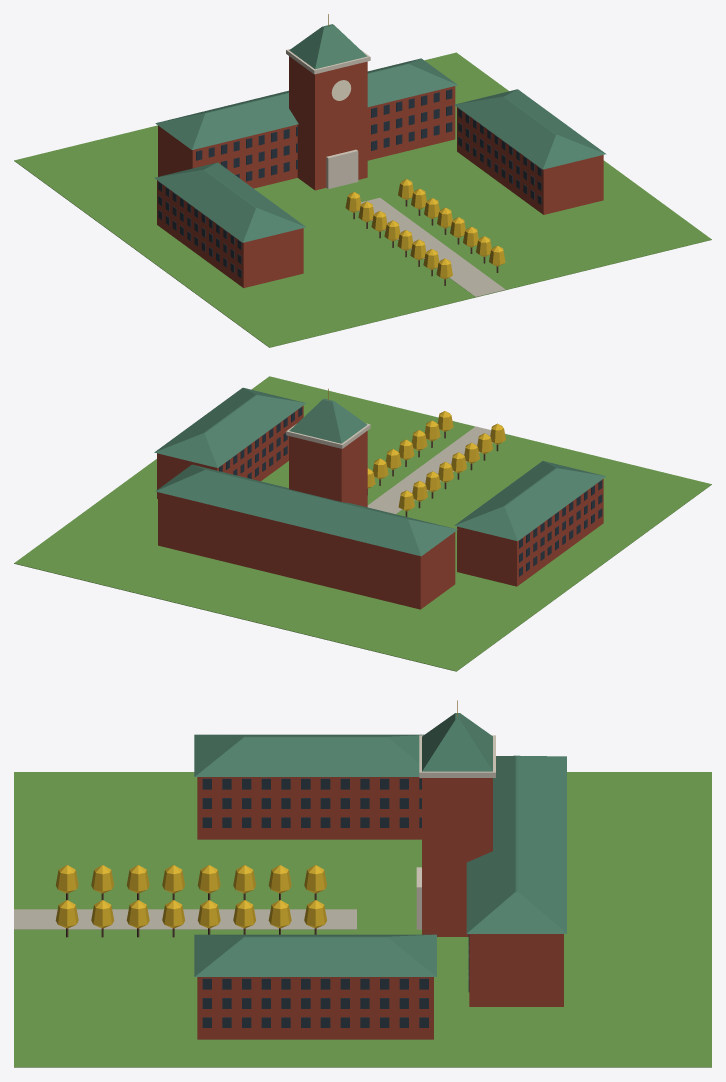
File: university.glb
3 renders of one model, top to bottom at view 1: azimuth 30°, elevation 25°; view 2: azimuth 150°, elevation 25°; view 3: azimuth 270°, elevation 25°, orthographic. The views are drawn at different scales.
Parts seen in each view (by area): view 1: University_static; view 2: University_static; view 3: University_static.
Part boxes in pixels (x1,y1,x2,y2): University_static: (14, 14, 711, 347); University_static: (14, 376, 711, 671); University_static: (14, 700, 711, 1067).
Bounding box in the file's own units: 118 × 41 × 118.
